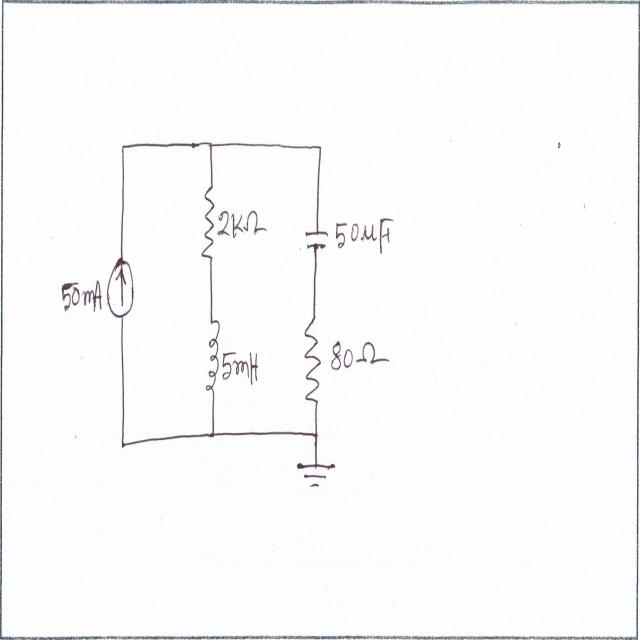capacitor: (302, 223, 330, 255)
current_source: (105, 254, 136, 322)
ground: (295, 458, 339, 498)
inductor: (203, 318, 219, 401)
resistor: (302, 311, 323, 406), (198, 185, 216, 266)
